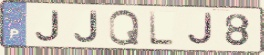8: (224, 13, 252, 48)
J: (186, 12, 215, 47), (34, 9, 62, 43), (73, 10, 99, 44)
L: (148, 10, 177, 47)
Q: (107, 8, 141, 47)
